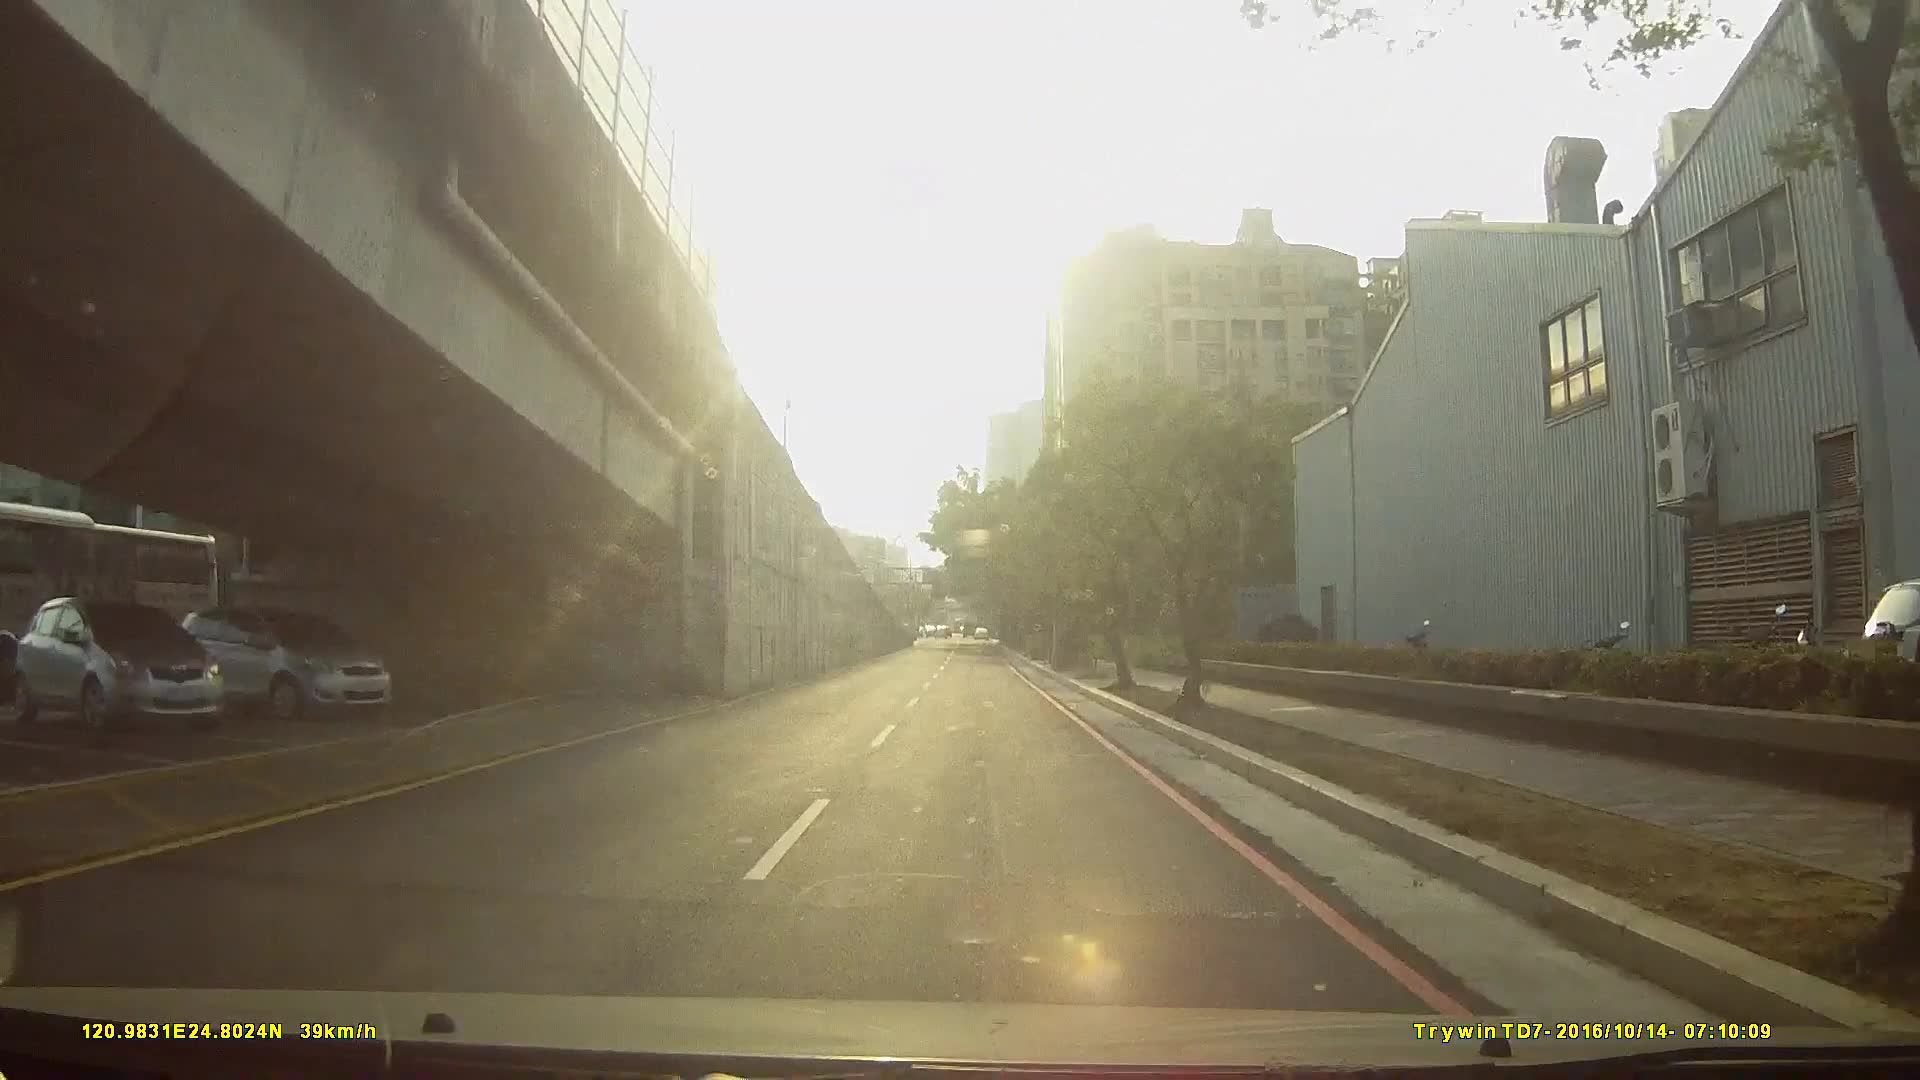vehicle: (1, 500, 229, 709), (154, 605, 407, 727), (18, 593, 222, 740)
